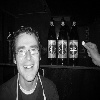beer: (55, 18, 71, 71)
